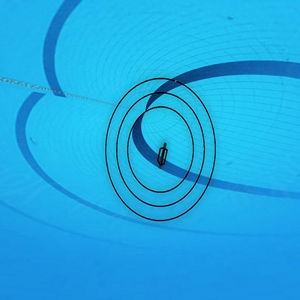circle: (102, 74, 222, 233)
submarine: (158, 145, 169, 166)
